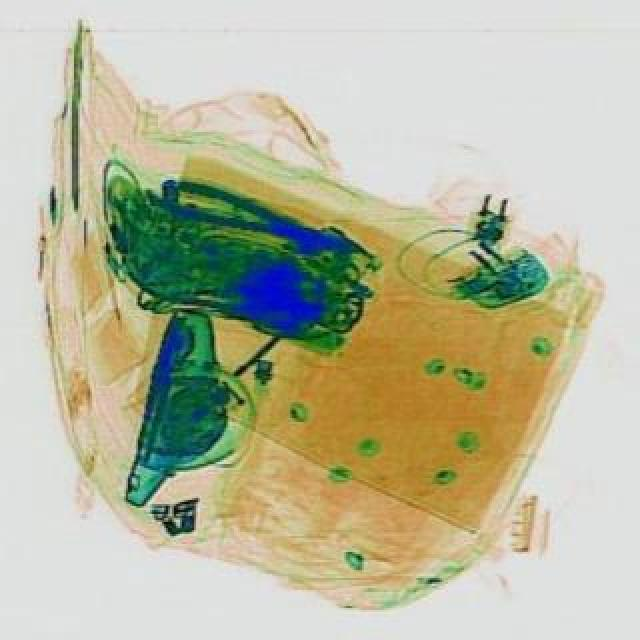wrench: (158, 172, 362, 268)
